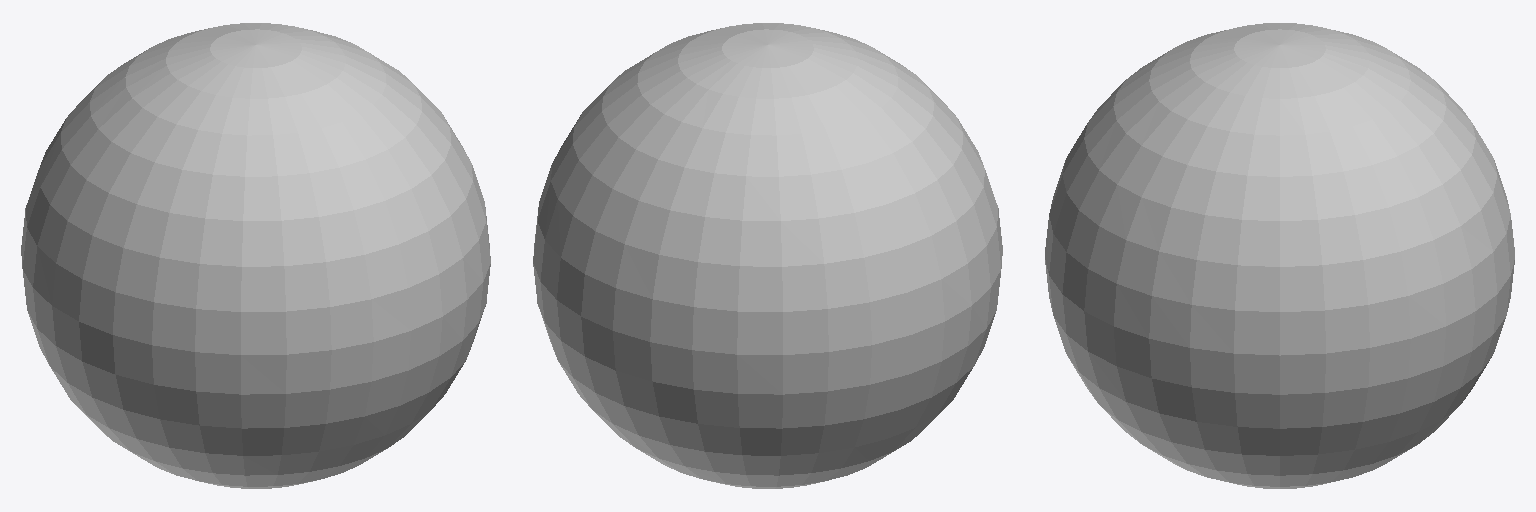
File: Marble5.obj
The picture shows the model from 3 angles: view 1: azimuth 30°, elevation 25°; view 2: azimuth 150°, elevation 25°; view 3: azimuth 270°, elevation 25°; orthographic projection.
Parts seen in each view (by area): view 1: Marble5; view 2: Marble5; view 3: Marble5.
Part boxes in pixels (x1,y1,x2,y2): Marble5: (21, 23, 490, 488); Marble5: (533, 23, 1002, 488); Marble5: (1045, 23, 1514, 488).
Bounding box in the file's own units: 0.0116 × 0.0115 × 0.0116.